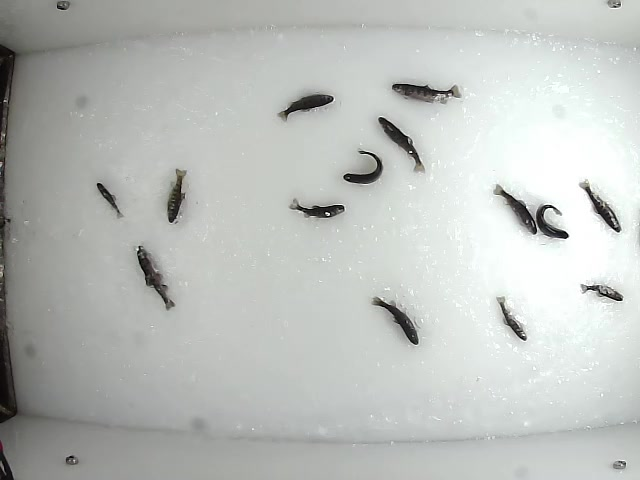fish: (375, 114, 428, 176), (133, 242, 176, 311), (577, 178, 624, 234), (489, 182, 538, 234), (371, 295, 420, 346), (274, 92, 337, 124), (340, 146, 385, 185), (389, 82, 464, 105), (494, 294, 529, 343), (287, 194, 347, 220), (534, 203, 572, 242), (165, 166, 190, 224), (93, 179, 129, 214), (578, 282, 625, 303)
